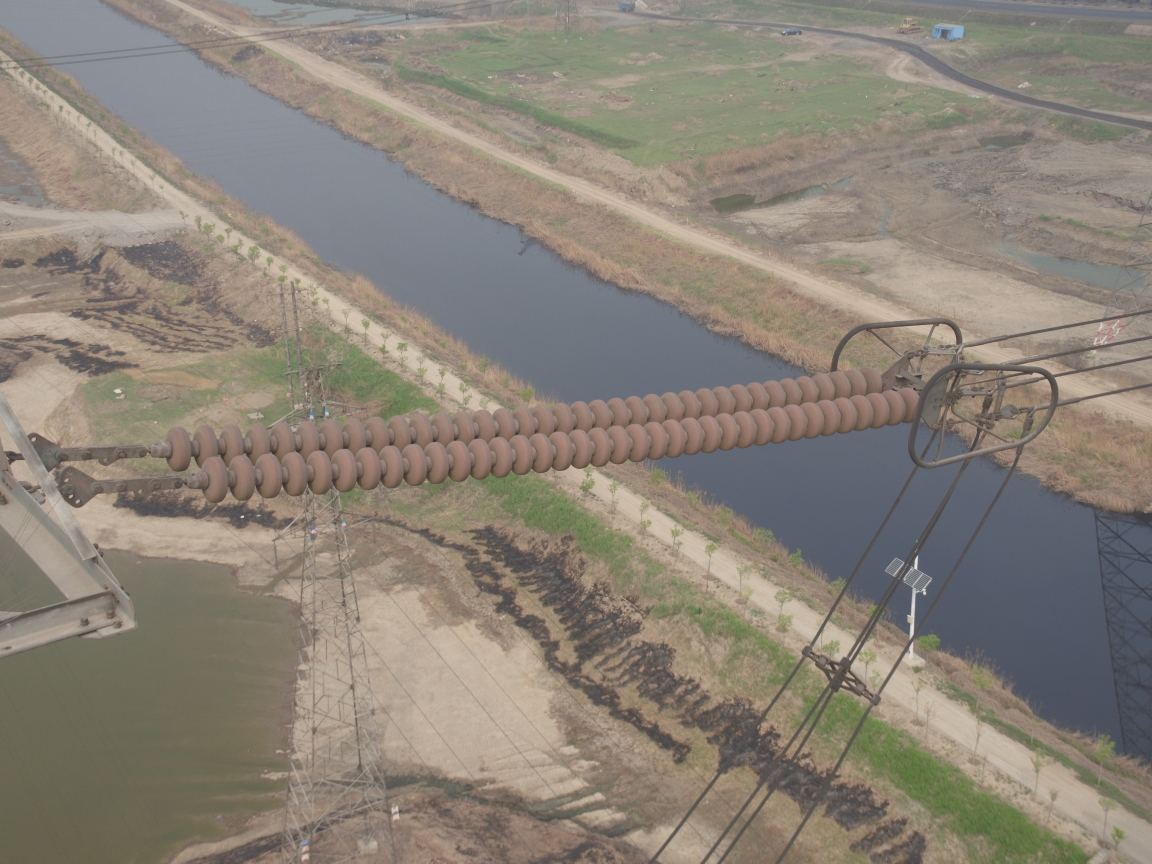insulator: (118, 360, 937, 504)
